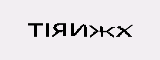І: (44, 19, 51, 39)
Ж: (87, 23, 116, 40)
И: (70, 20, 87, 39)
Т: (26, 20, 44, 39)
Х: (115, 23, 134, 40)
Я: (51, 21, 68, 40)
